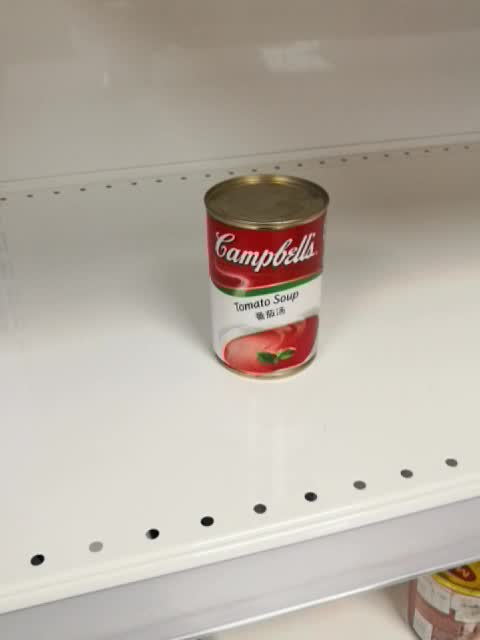tomatosoup: (202, 174, 330, 382)
